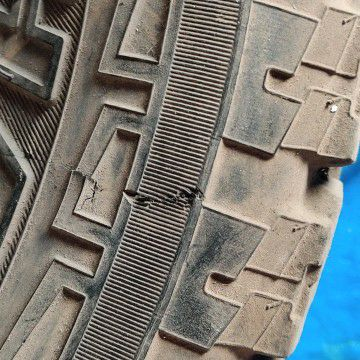cut: (118, 189, 205, 209)
